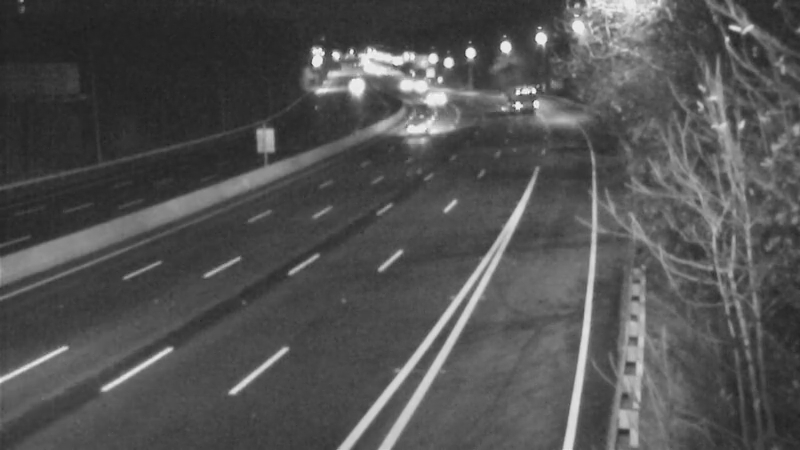vehicle: (377, 58, 427, 108), (392, 59, 442, 109), (502, 72, 552, 122), (410, 71, 460, 121), (390, 102, 440, 152), (332, 62, 382, 112)
